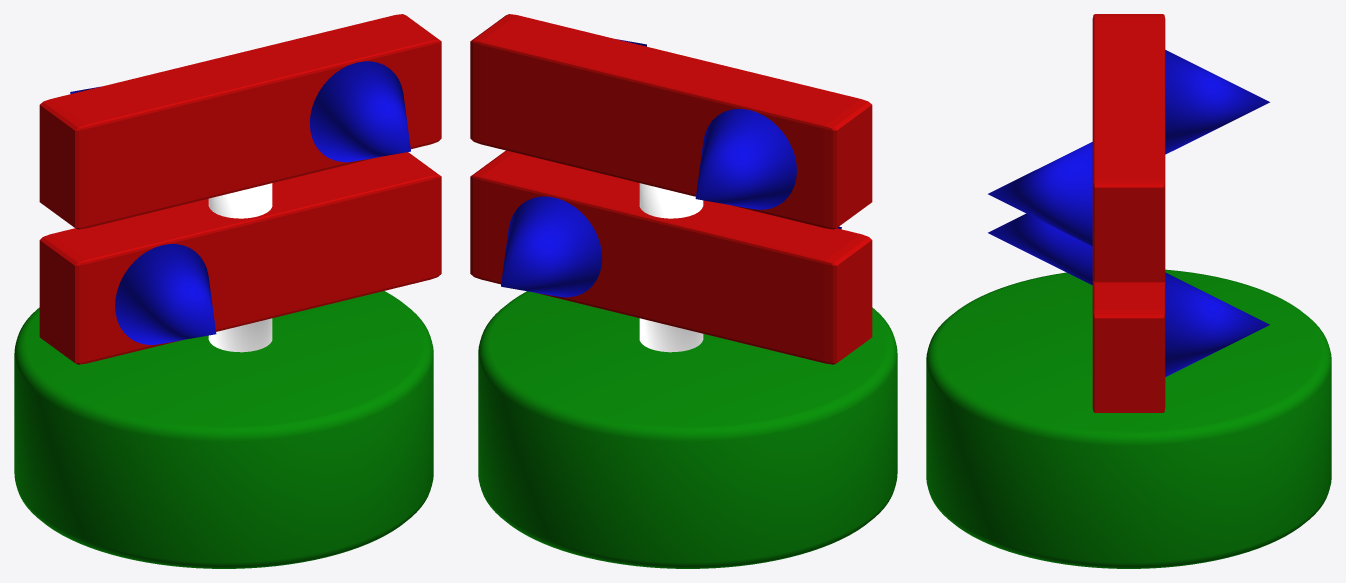
The picture shows the model from 3 angles, left to right: view 1: azimuth 30°, elevation 25°; view 2: azimuth 150°, elevation 25°; view 3: azimuth 270°, elevation 25°; orthographic projection. The views are drawn at different scales.
Parts seen in each view (by area): view 1: base, bar_up, bar_lo, cone_up_1, cone_lo_1, post; view 2: base, bar_up, bar_lo, cone_lo_-1, cone_up_-1, post; view 3: base, bar_up, bar_lo, cone_up_-1, cone_lo_-1, cone_up_1, cone_lo_1.
Boxes of the visible parts, bbox=[...] form: base: bbox=[14, 291, 433, 568]; bar_up: bbox=[39, 14, 441, 229]; bar_lo: bbox=[39, 152, 441, 364]; cone_up_1: bbox=[309, 61, 410, 162]; cone_lo_1: bbox=[115, 244, 216, 344]; post: bbox=[208, 183, 272, 352]; base: bbox=[478, 291, 897, 568]; bar_up: bbox=[470, 14, 872, 229]; bar_lo: bbox=[470, 150, 872, 364]; cone_lo_-1: bbox=[501, 196, 602, 297]; cone_up_-1: bbox=[695, 109, 796, 209]; post: bbox=[639, 183, 703, 352]; base: bbox=[926, 269, 1331, 568]; bar_up: bbox=[1092, 14, 1165, 282]; bar_lo: bbox=[1092, 278, 1165, 412]; cone_up_-1: bbox=[1165, 50, 1269, 154]; cone_lo_-1: bbox=[1165, 272, 1269, 376]; cone_up_1: bbox=[988, 142, 1092, 246]; cone_lo_1: bbox=[988, 213, 1092, 285].
Bounding box in the file's own units: 2.31 × 2.38 × 2.2.
